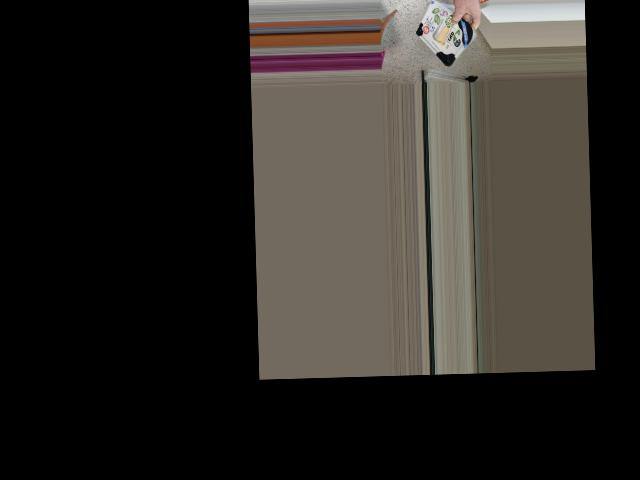cheese: (411, 8, 490, 58)
